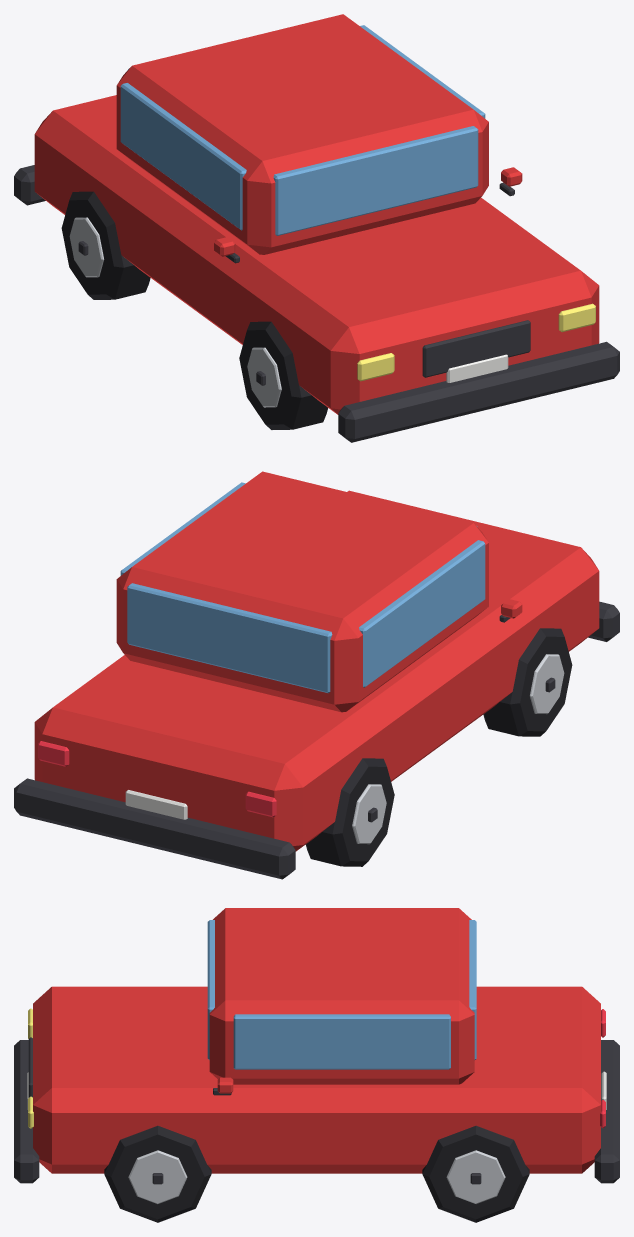
Rendered from Car.fbx.
3 renders of one model, top to bottom at view 1: azimuth 30°, elevation 25°; view 2: azimuth 150°, elevation 25°; view 3: azimuth 270°, elevation 25°, orthographic. The views are drawn at different scales.
Visible parts, largest first — view 1: Car, Car_WheelBR, Car_WheelFR; view 2: Car, Car_WheelBR, Car_WheelFR; view 3: Car, Car_WheelBL, Car_WheelFL.
Part boxes in pixels (x1=…): Car: x1=14, y1=14, x2=619, y2=442; Car_WheelBR: x1=61, y1=191, x2=150, y2=299; Car_WheelFR: x1=239, y1=321, x2=327, y2=429; Car: x1=14, y1=471, x2=619, y2=879; Car_WheelBR: x1=305, y1=758, x2=394, y2=866; Car_WheelFR: x1=483, y1=628, x2=572, y2=736; Car: x1=14, y1=908, x2=619, y2=1183; Car_WheelBL: x1=422, y1=1125, x2=529, y2=1222; Car_WheelFL: x1=104, y1=1125, x2=211, y2=1222.
Size of the model in its own units: 4.95 by 3.67 by 9.6.
1 material, 1 textured.
